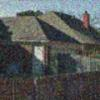chimneys: (81, 11, 91, 30)
